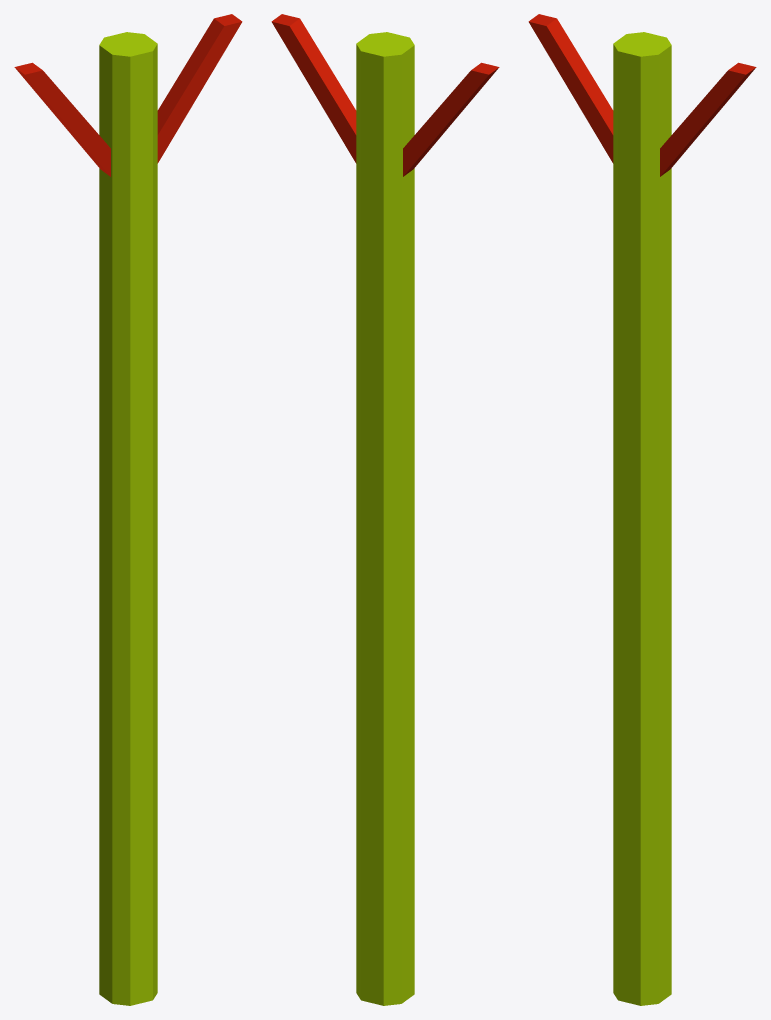
The model's file is Electrical_Post.fbx.
3 views of the same model, side by side, from view 1: azimuth 30°, elevation 25°; view 2: azimuth 150°, elevation 25°; view 3: azimuth 330°, elevation 25° (orthographic).
Parts seen in each view (by area): view 1: Cube; view 2: Cube; view 3: Cube.
Part boxes in pixels (<box>): Cube: <box>14,14,242,1005</box>; Cube: <box>271,14,499,1005</box>; Cube: <box>528,14,756,1005</box>.
Size of the model in its own units: 480 by 2000 by 100.
